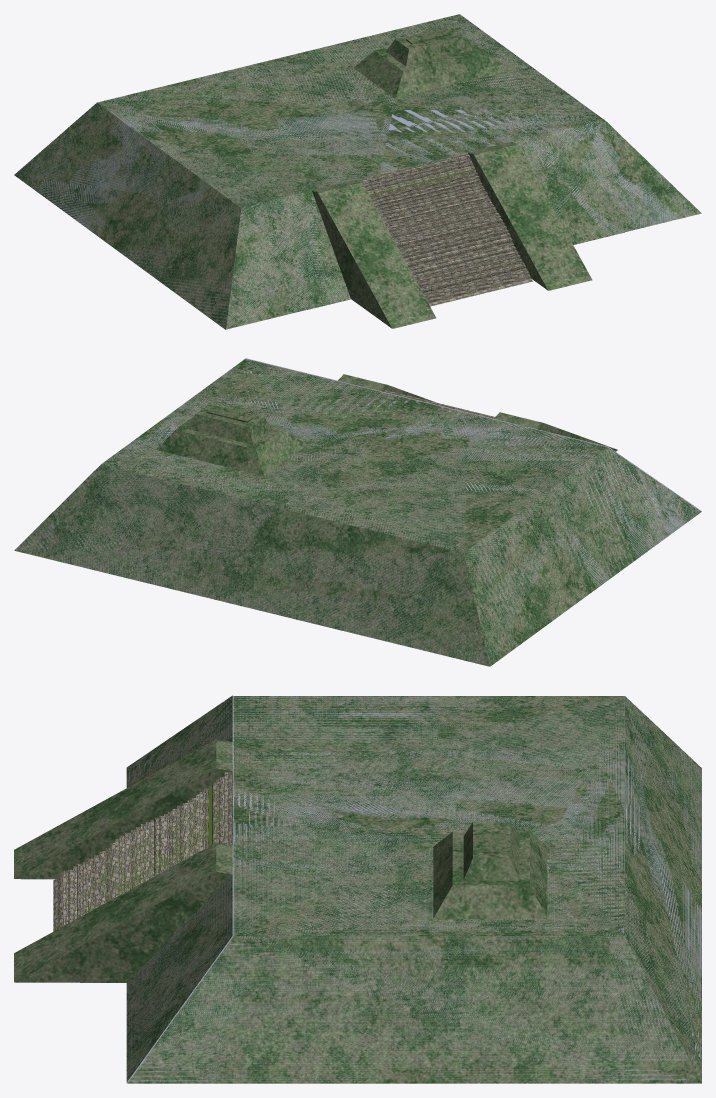
Rendered from piramide3.obj.
The picture shows the model from 3 angles, top to bottom: view 1: azimuth 30°, elevation 25°; view 2: azimuth 150°, elevation 25°; view 3: azimuth 270°, elevation 25°; orthographic projection. The views are drawn at different scales.
Parts seen in each view (by area): view 1: Mesh7 Group1 Model, Mesh3 Group6 Group5 Group4 Group1 Model, Mesh1 Group2 Group1 Model, Mesh2 Group3 Group1 Model, Mesh6 Group7 Group1 Model; view 2: Mesh7 Group1 Model, Mesh6 Group7 Group1 Model, Mesh1 Group2 Group1 Model, Mesh2 Group3 Group1 Model; view 3: Mesh7 Group1 Model, Mesh2 Group3 Group1 Model, Mesh6 Group7 Group1 Model, Mesh1 Group2 Group1 Model, Mesh3 Group6 Group5 Group4 Group1 Model.
Boxes of the visible parts, box(x1,y1,x2,y2) form: Mesh7 Group1 Model: box(14, 14, 701, 329); Mesh3 Group6 Group5 Group4 Group1 Model: box(307, 155, 624, 309); Mesh1 Group2 Group1 Model: box(312, 180, 436, 328); Mesh2 Group3 Group1 Model: box(468, 142, 592, 290); Mesh6 Group7 Group1 Model: box(353, 26, 503, 98); Mesh7 Group1 Model: box(14, 358, 701, 666); Mesh6 Group7 Group1 Model: box(156, 404, 306, 476); Mesh1 Group2 Group1 Model: box(494, 412, 617, 451); Mesh2 Group3 Group1 Model: box(338, 374, 435, 402); Mesh7 Group1 Model: box(126, 695, 701, 1083); Mesh2 Group3 Group1 Model: box(14, 842, 232, 982); Mesh6 Group7 Group1 Model: box(433, 822, 547, 918); Mesh1 Group2 Group1 Model: box(14, 739, 232, 879); Mesh3 Group6 Group5 Group4 Group1 Model: box(53, 774, 224, 931).
Bounding box in the file's own units: 56.95 × 12.95 × 52.49.
